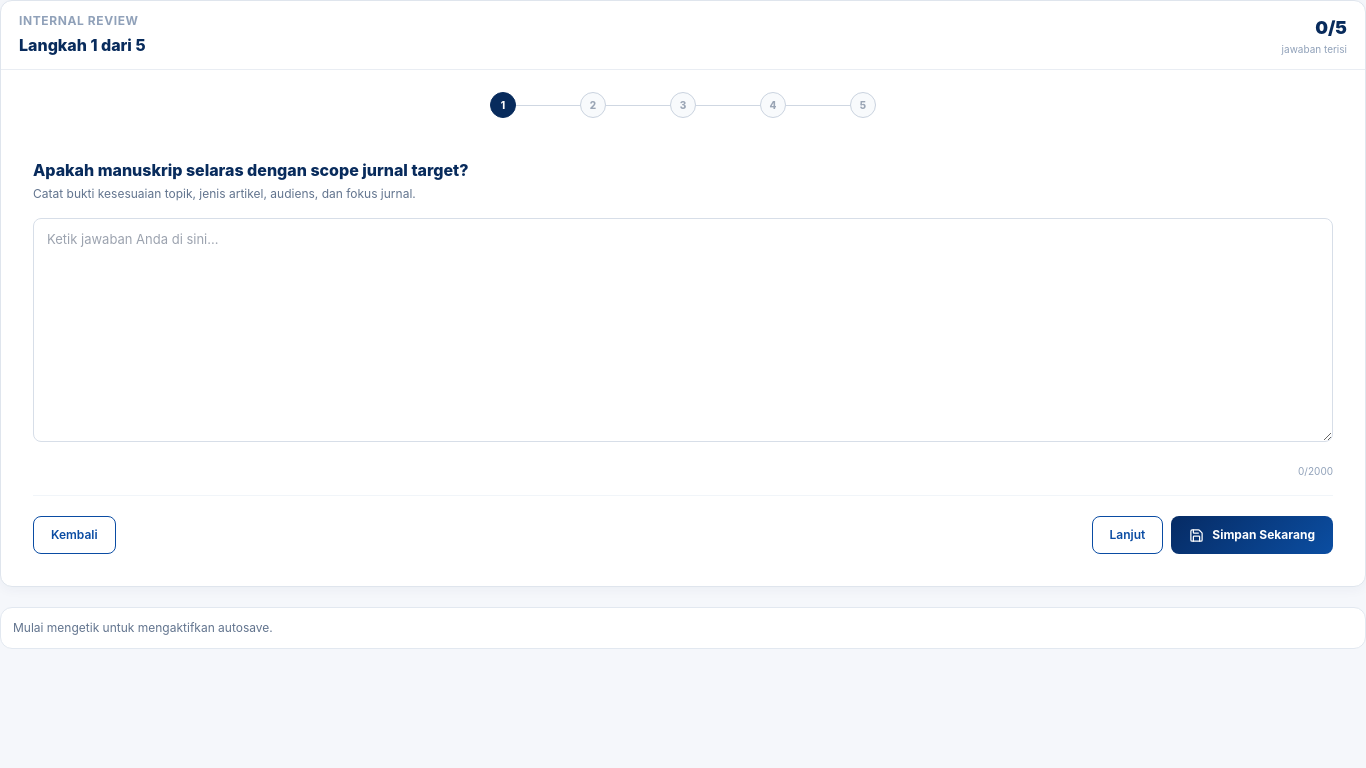
structured worksheet autosave › saves Internal Review without granting completion on the client
Type "Scope dan audiens jurnal telah sesuai." into the text box named "Apakah manuskrip selaras dengan scope jurnal target?". click: [683, 330]
box: x1=33 y1=218 x2=1333 y2=442
Wait 1200 ms
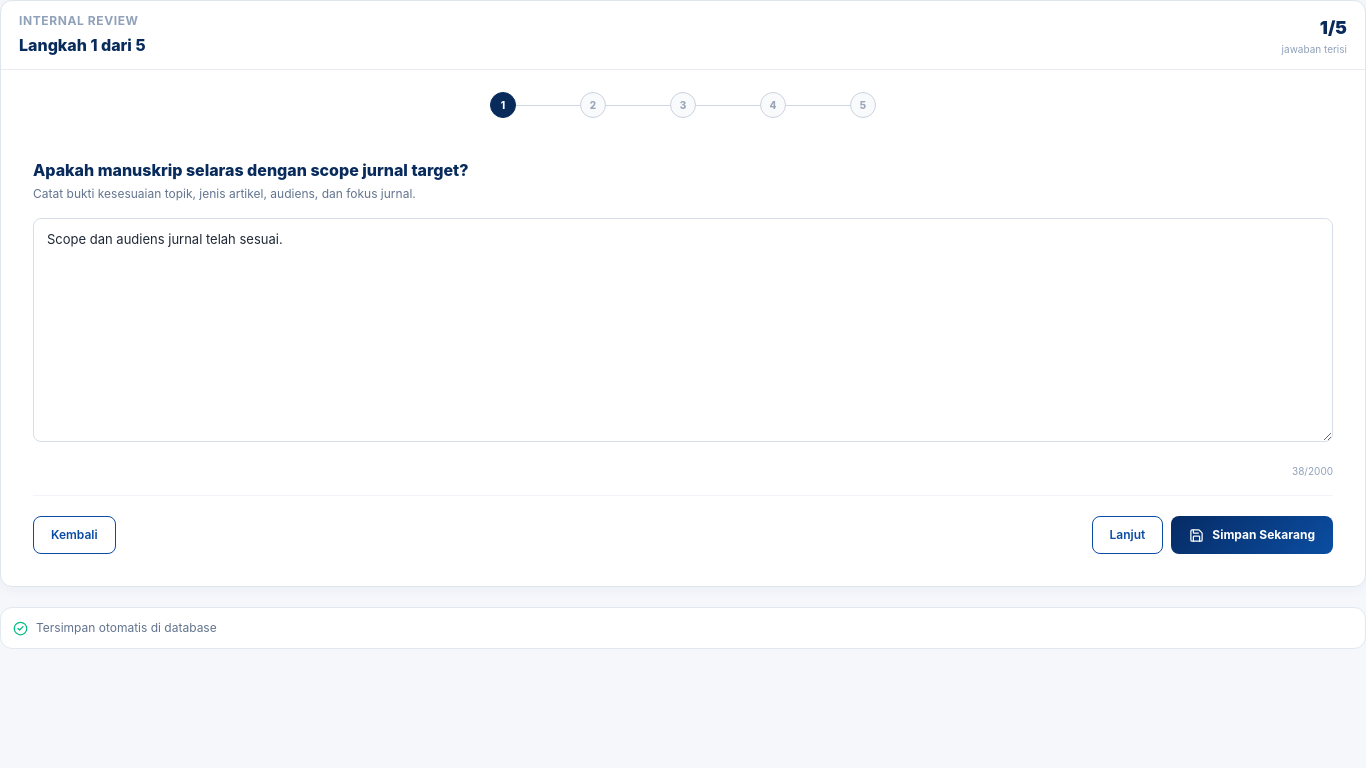
Expected: the text "Tersimpan otomatis di database" is shown, x1=0 y1=607 x2=1365 y2=649
